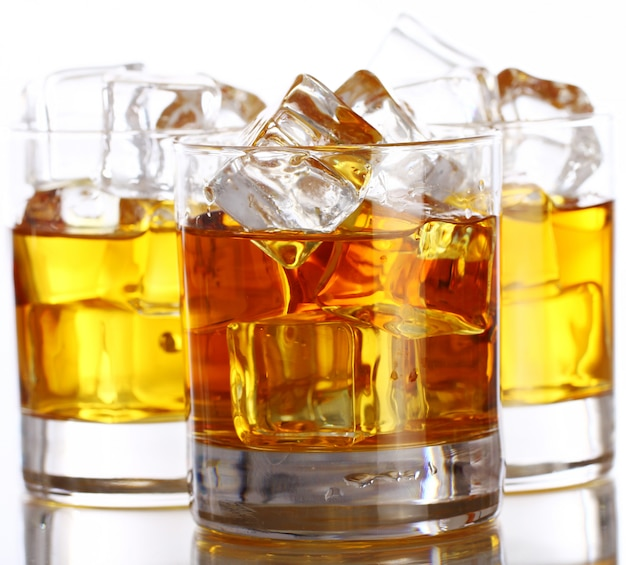alcohol: (174, 78, 504, 534), (352, 17, 618, 496), (9, 64, 275, 509)
